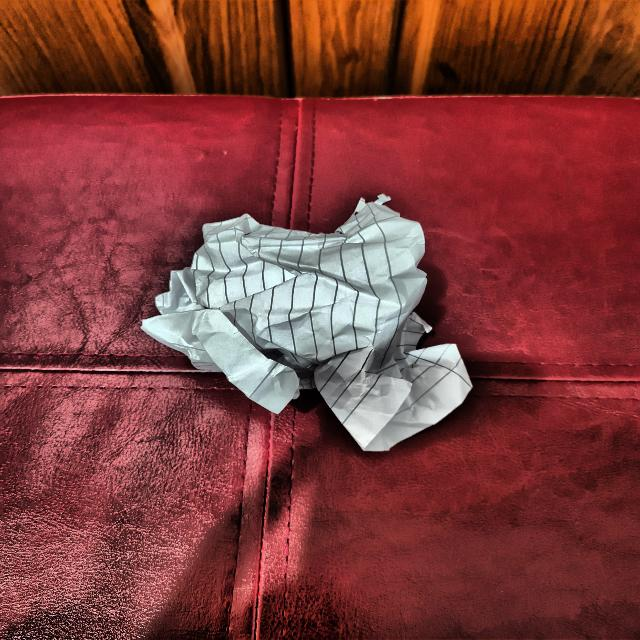Paper: (159, 197, 464, 442)
